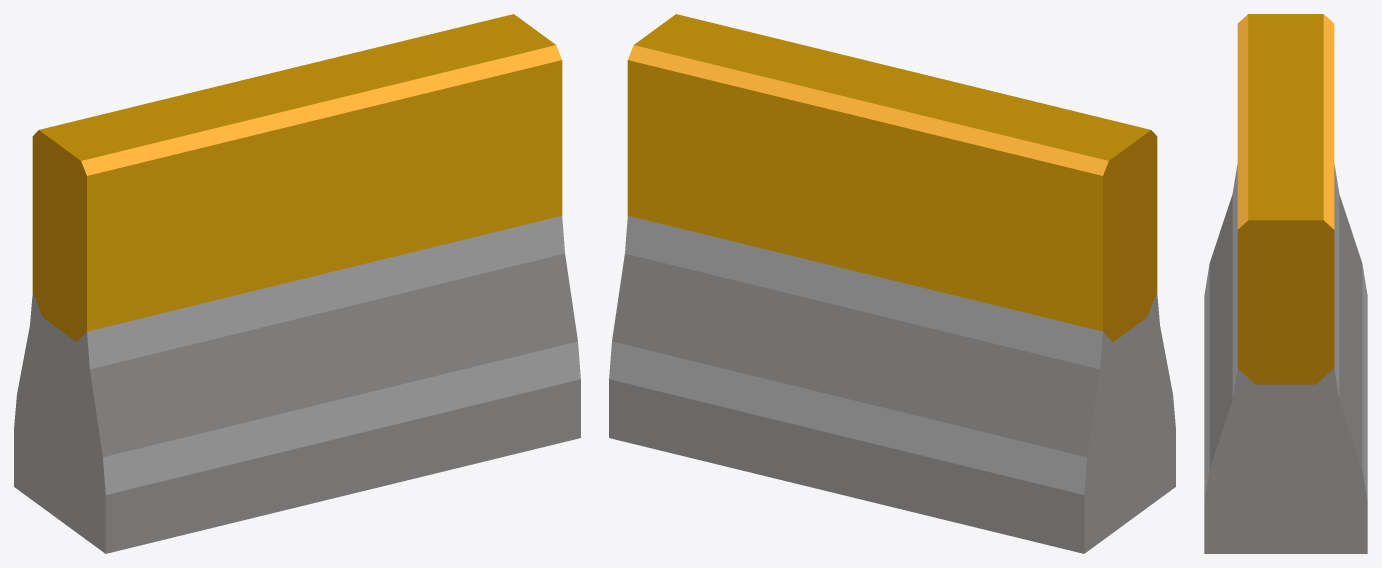
The model's file is Barrier.gltf.
3 renders of one model, left to right at view 1: azimuth 30°, elevation 25°; view 2: azimuth 150°, elevation 25°; view 3: azimuth 270°, elevation 25°, orthographic. The views are drawn at different scales.
Visible parts, largest first — view 1: Cube; view 2: Cube; view 3: Cube.
Boxes of the visible parts, x1,y1,x2,y2 form: Cube: (14,14,580,553); Cube: (609,14,1175,553); Cube: (1204,14,1367,553).
Size of the model in its own units: 2 by 1.51 by 0.6683.
